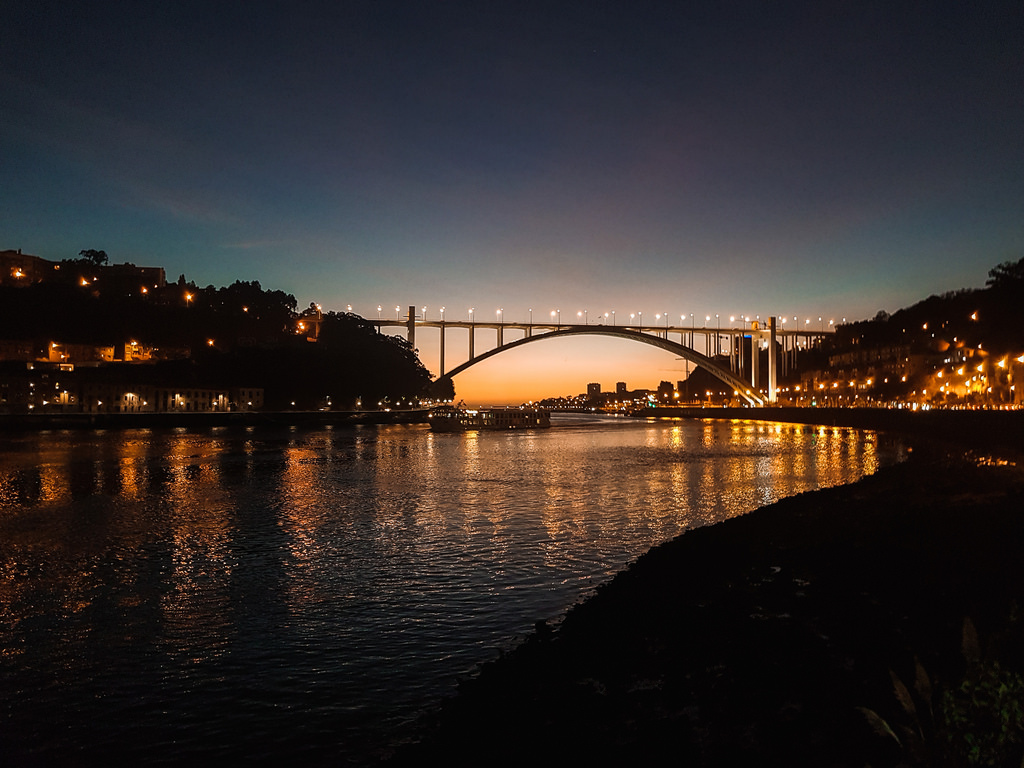arrabida: (350, 303, 836, 412)
